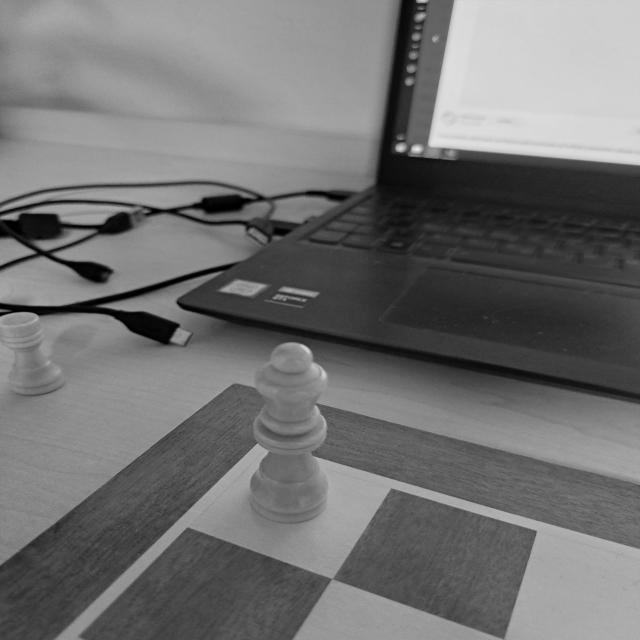chess-table-corners: (195, 419, 343, 489)
